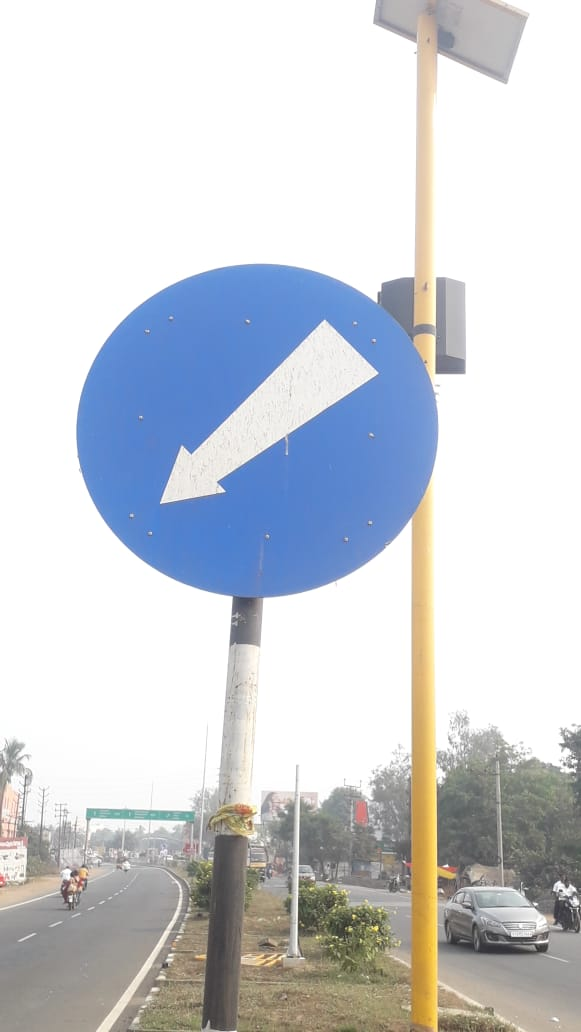go left: (65, 250, 440, 617)
